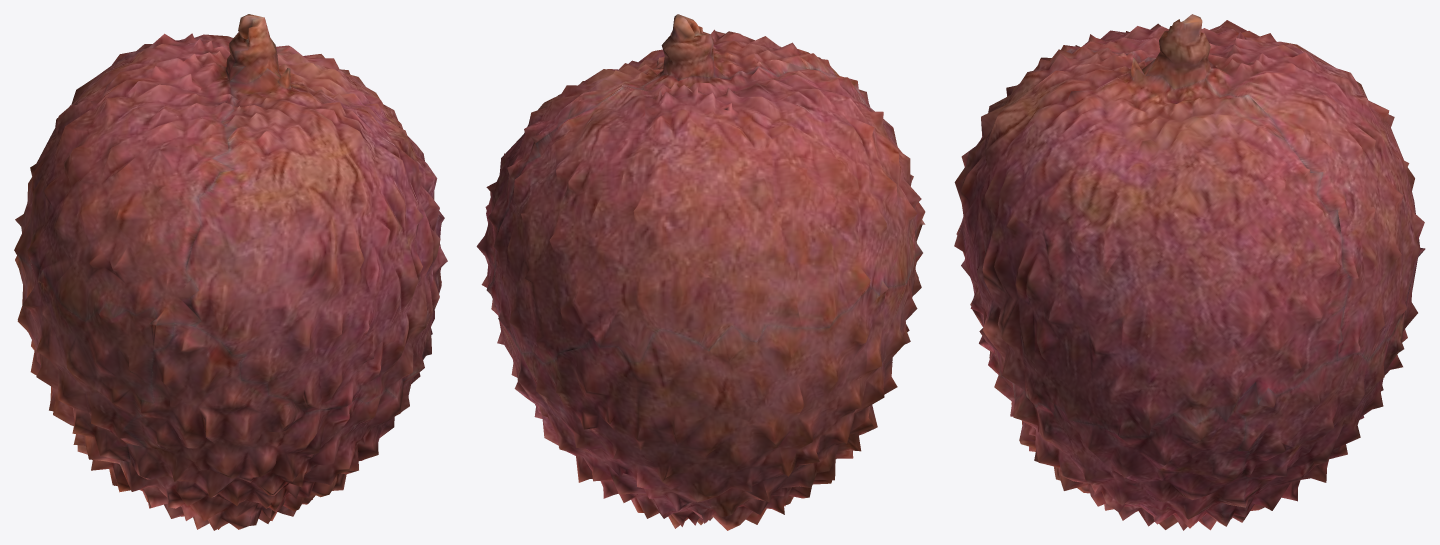
The model's file is food_lychee_01.glb.
3 renders of one model, left to right at view 1: azimuth 30°, elevation 25°; view 2: azimuth 150°, elevation 25°; view 3: azimuth 270°, elevation 25°, orthographic. The views are drawn at different scales.
Parts seen in each view (by area): view 1: food_lychee_01; view 2: food_lychee_01; view 3: food_lychee_01.
Boxes of the visible parts, box(x1,y1,x2,y2) form: food_lychee_01: box(14, 14, 447, 530); food_lychee_01: box(476, 14, 925, 530); food_lychee_01: box(954, 14, 1425, 530).
Size of the model in its own units: 0.0409 by 0.0506 by 0.042.
1 material, 1 textured.
